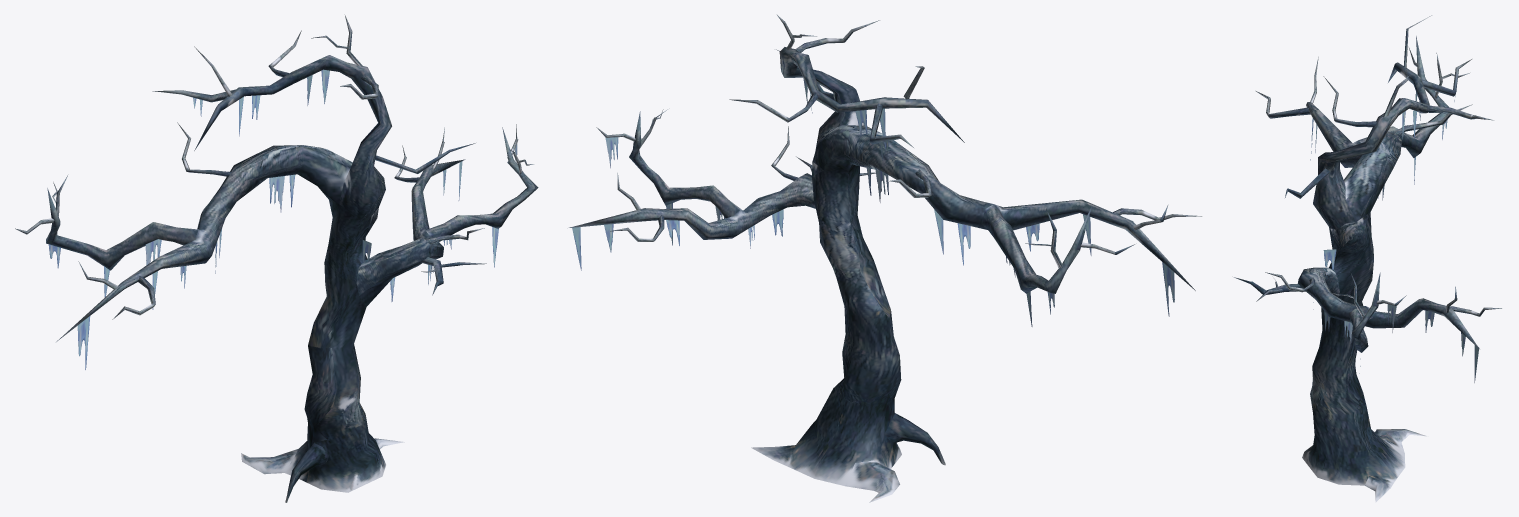
File: 3-1_shu2.FBX
The picture shows the model from 3 angles, left to right: view 1: azimuth 30°, elevation 25°; view 2: azimuth 150°, elevation 25°; view 3: azimuth 270°, elevation 25°; orthographic projection. The views are drawn at different scales.
Parts seen in each view (by area): view 1: 3-1_shu2; view 2: 3-1_shu2; view 3: 3-1_shu2.
Part boxes in pixels (x1,y1,x2,y2): 3-1_shu2: (15,15,538,502); 3-1_shu2: (569,15,1201,502); 3-1_shu2: (1234,15,1501,502).
Bounding box in the file's own units: 800 × 642 × 386.
